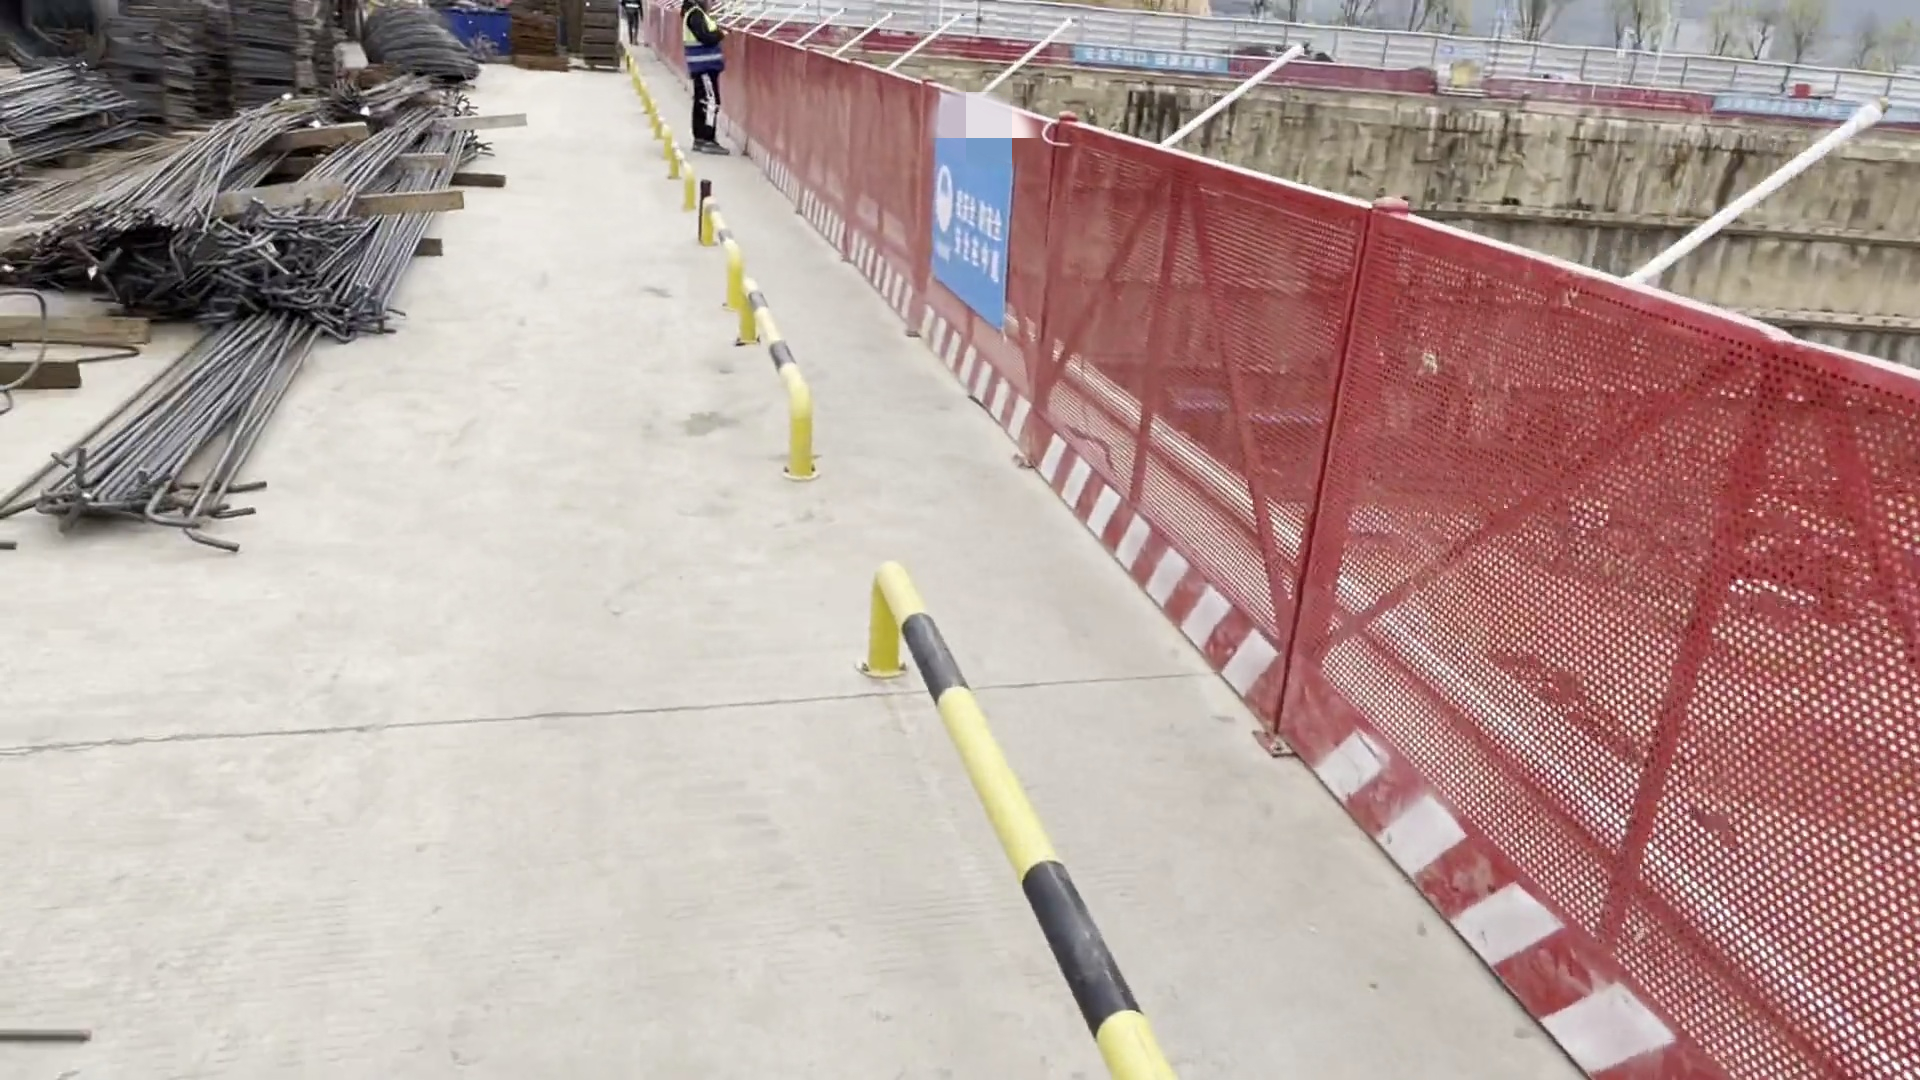fence: (1287, 198, 1913, 1075), (737, 37, 1293, 733)
person: (685, 1, 733, 153), (620, 1, 644, 43)
rebar: (15, 324, 323, 525), (68, 96, 449, 218), (53, 224, 375, 325), (1, 67, 128, 145)
slogan: (923, 88, 1008, 339), (1067, 48, 1223, 70), (1704, 96, 1864, 118)
vest: (680, 6, 724, 77)
